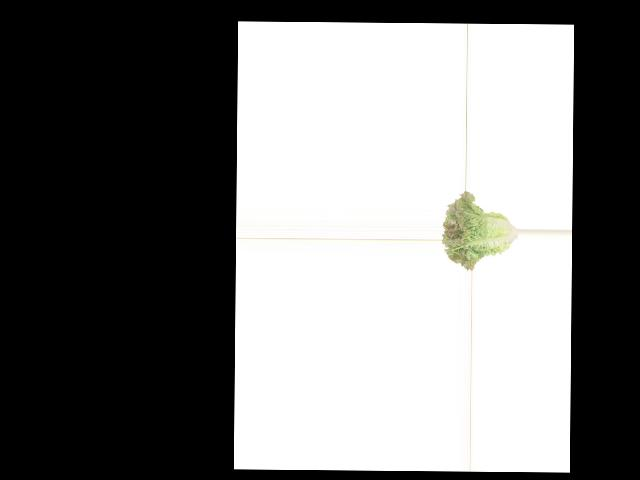lettuce: (442, 191, 518, 270)
